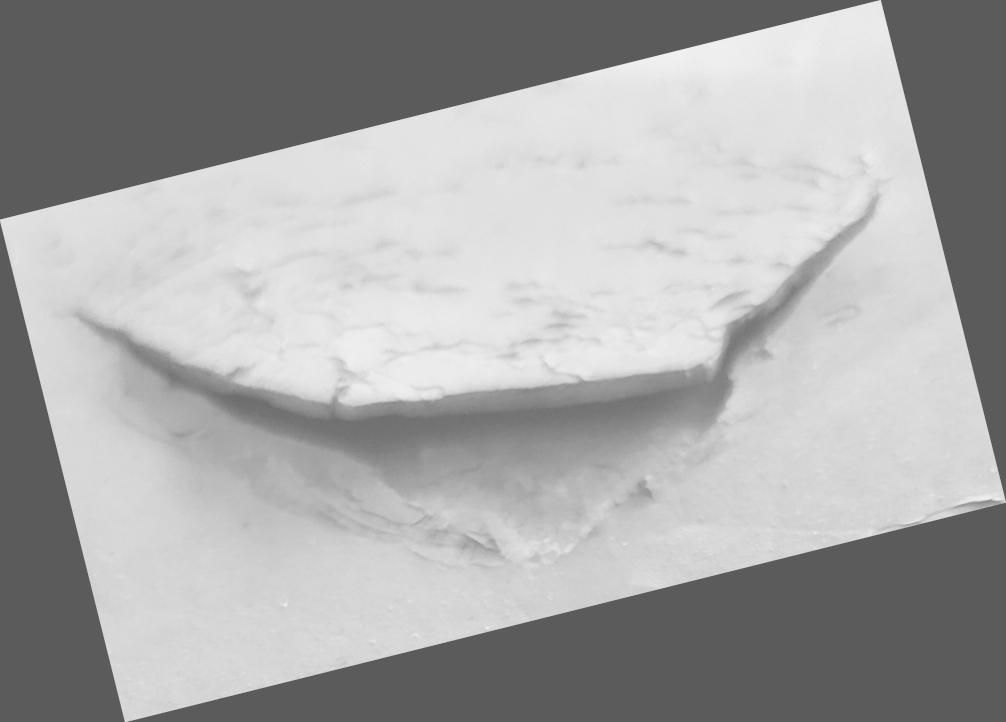crack: (1, 0, 1006, 722)
